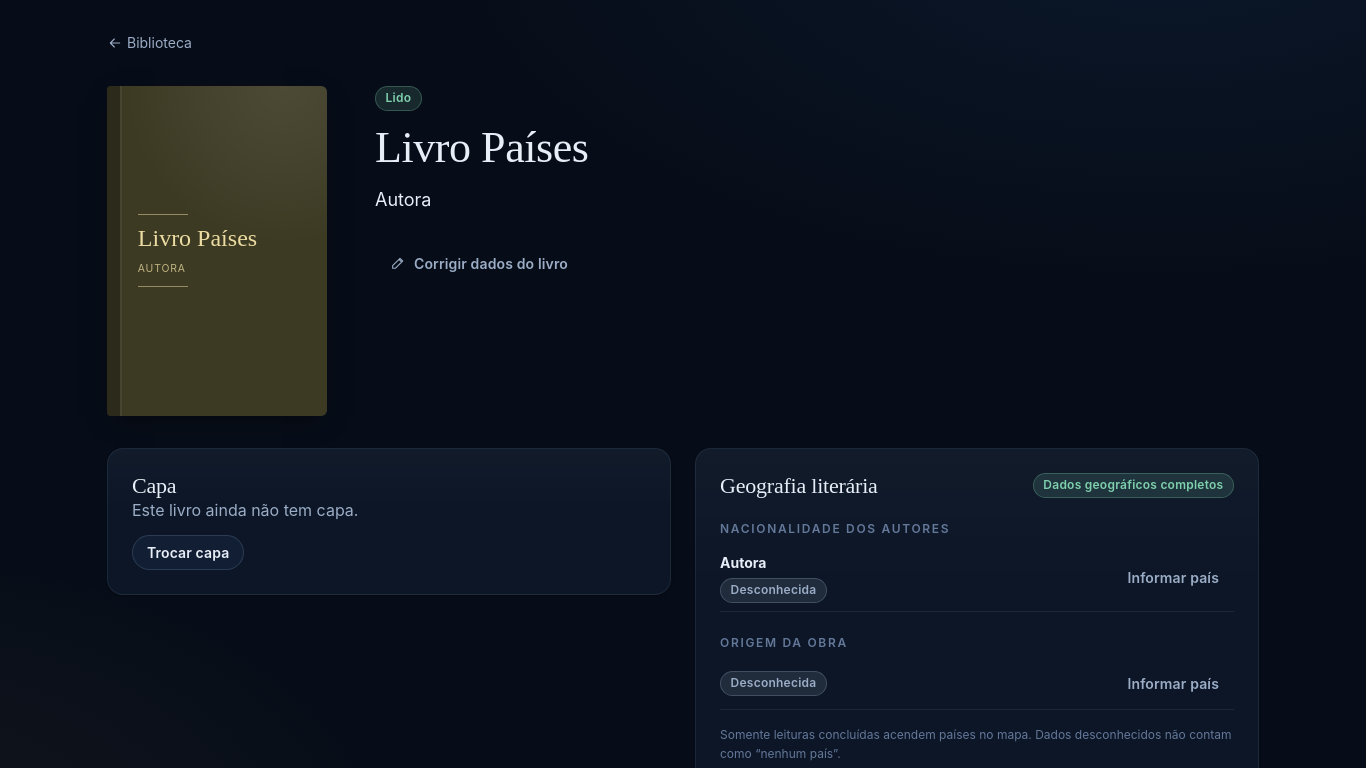
BookDetailsPage: quem pode alterar países › 403 geo.moderator_required: mensagem em português, fecha o seletor e refaz a leitura do item
Click the button with aria-label "Informar país de origem da obra" at (1173, 684), box 1112,666 -> 1234,701
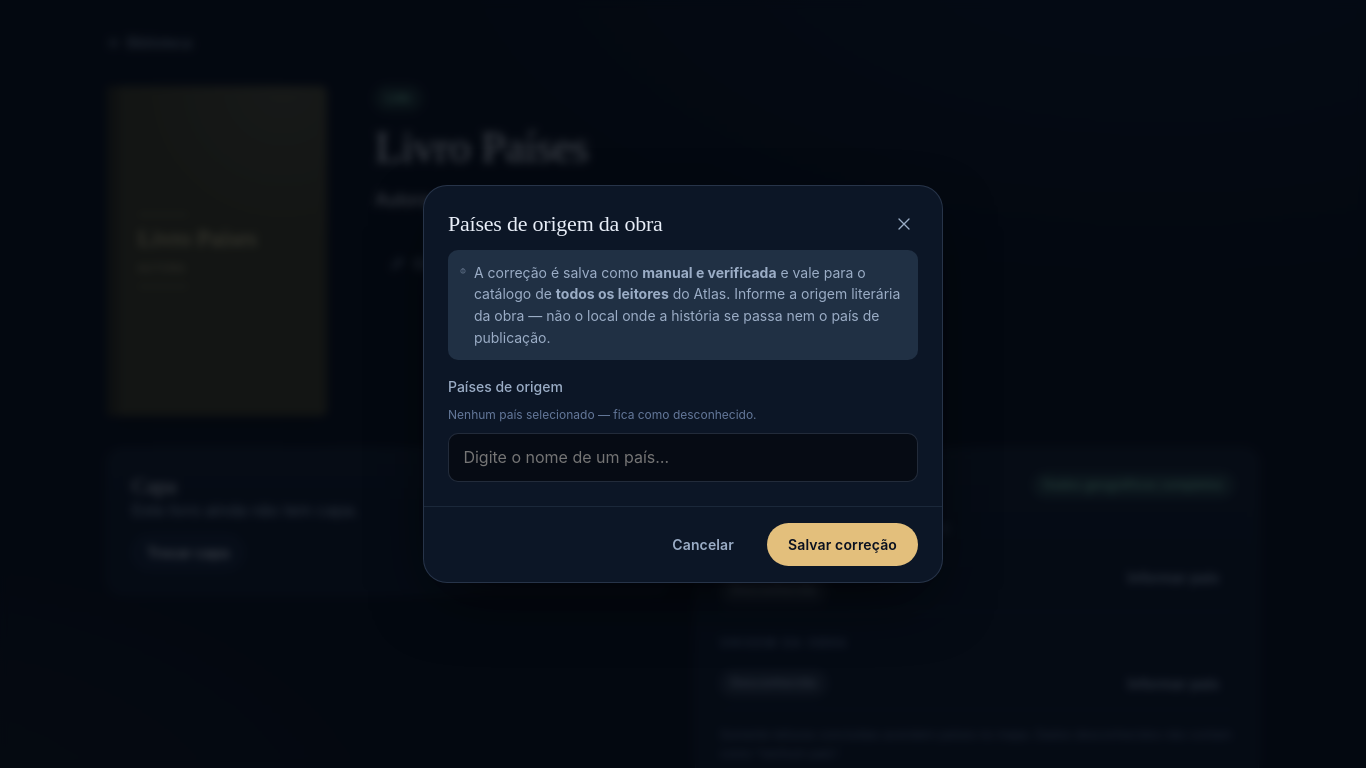
Click the button "Salvar correção" at (842, 545), box 767,523 -> 918,566
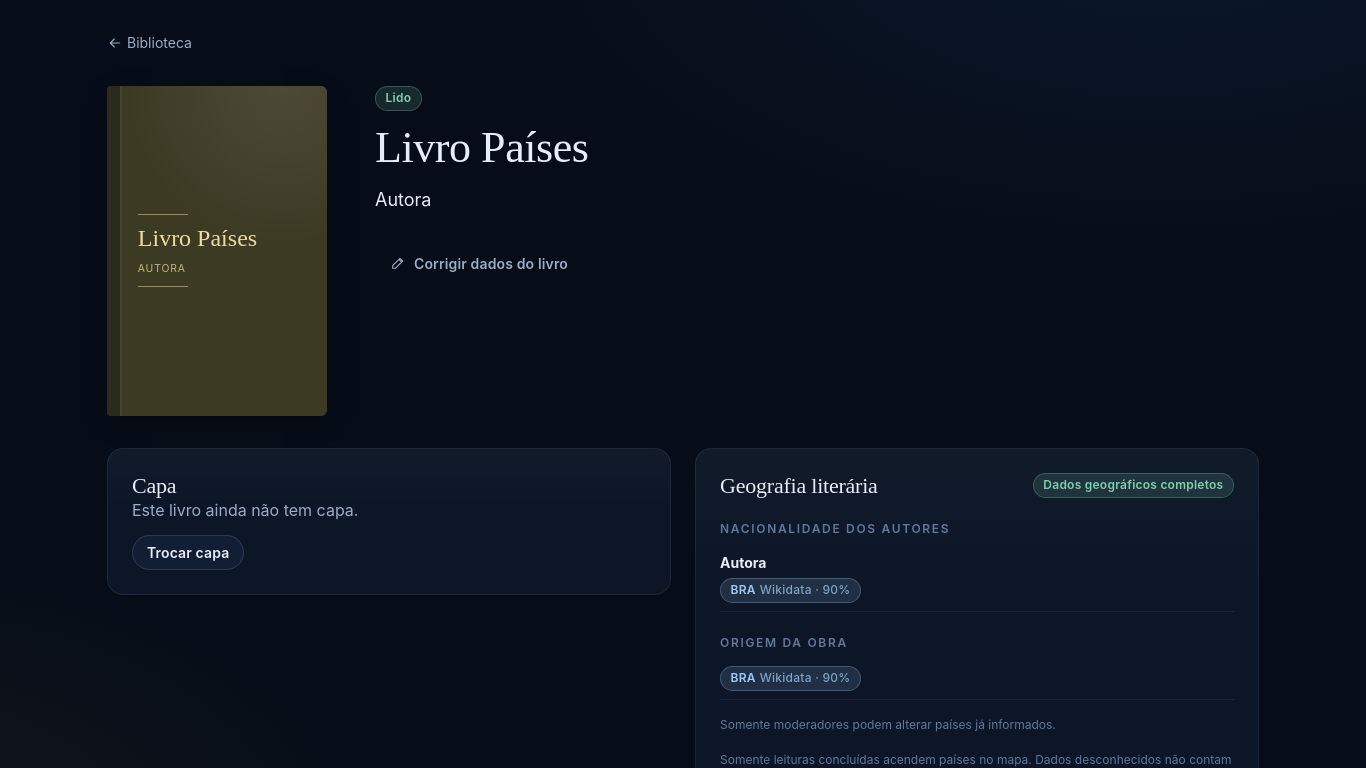
Expected: the dialog is gone
Expected: the text "Somente moderadores podem alterar países já informados." is shown, 720,717 -> 1056,732
